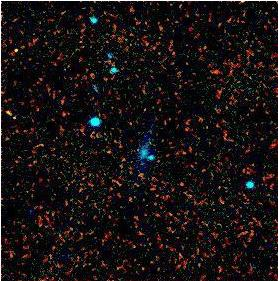star: (141, 141, 171, 171)
